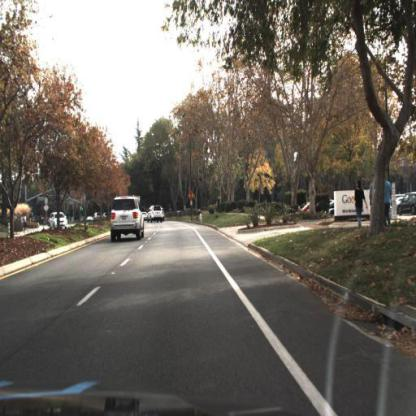car: (109, 192, 145, 243), (46, 211, 71, 230), (146, 204, 165, 226)
pedestrian: (381, 171, 395, 230), (353, 176, 368, 231)
